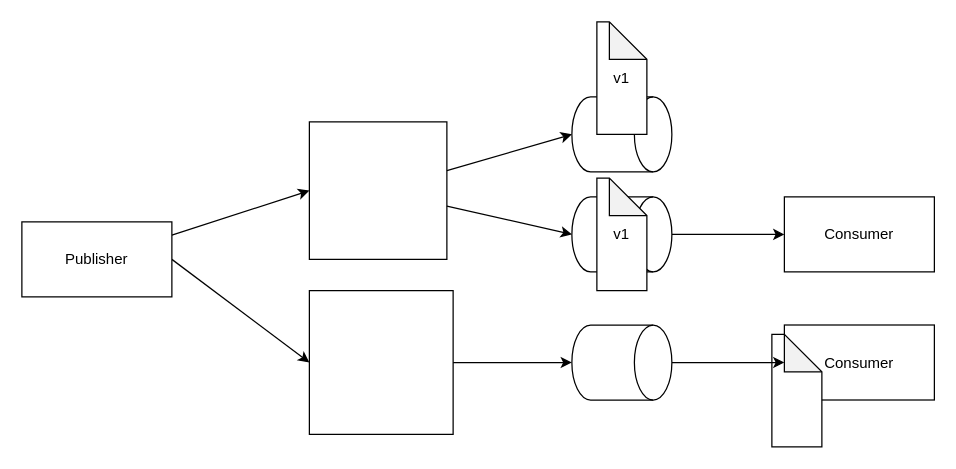
Some shapes in this 956 by 469 pixel diagram are drawn without their labels. Each missing label, with the box of its shape:
stockPriceUpdate: (308, 121, 447, 259)
stockPriceUpdateV2: (308, 289, 453, 434)
v2: (771, 333, 822, 447)
